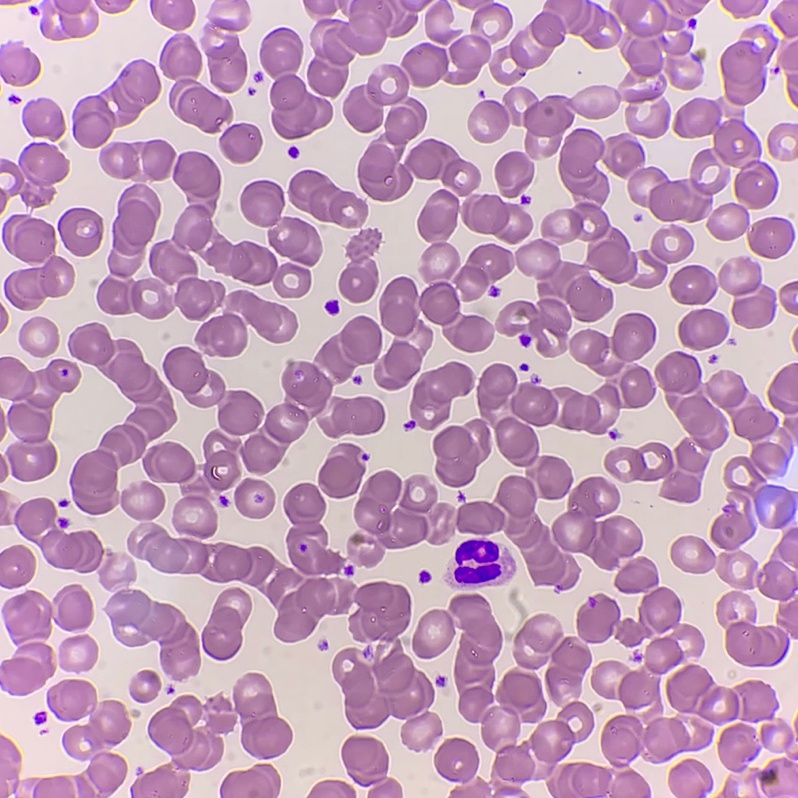RBC: (131, 526, 441, 749), (516, 100, 775, 321), (605, 352, 797, 550), (456, 456, 641, 588), (450, 595, 570, 781), (69, 323, 175, 514), (174, 152, 310, 297), (577, 558, 703, 708), (491, 0, 705, 84), (148, 673, 291, 768), (358, 103, 479, 200), (308, 0, 417, 96), (241, 362, 331, 473), (97, 184, 171, 318), (0, 357, 79, 480), (348, 471, 451, 565), (164, 347, 262, 434), (107, 590, 199, 679), (260, 29, 332, 138), (73, 62, 159, 147), (173, 431, 238, 537), (160, 37, 232, 132), (241, 181, 321, 264), (3, 215, 73, 309), (14, 498, 102, 572), (47, 680, 129, 756), (667, 665, 775, 722), (717, 592, 797, 665), (150, 241, 224, 319), (515, 622, 590, 696), (284, 483, 344, 575), (570, 313, 655, 376), (419, 282, 492, 351), (510, 384, 607, 433), (601, 715, 690, 767), (289, 170, 367, 227), (0, 143, 68, 206), (344, 66, 408, 132), (498, 298, 570, 354), (411, 363, 472, 429), (318, 317, 381, 380), (719, 258, 773, 327), (434, 420, 489, 486), (342, 736, 401, 797), (202, 588, 250, 659), (548, 763, 648, 797), (230, 291, 296, 342), (637, 228, 692, 287), (463, 195, 531, 242), (456, 245, 513, 299), (101, 140, 174, 180), (339, 230, 380, 301), (523, 96, 572, 155), (721, 44, 769, 104), (0, 642, 53, 694), (205, 30, 246, 92), (319, 443, 364, 497), (323, 397, 384, 436), (5, 591, 52, 641), (374, 341, 422, 389), (380, 278, 418, 336), (468, 94, 513, 142), (599, 367, 653, 407), (77, 753, 126, 797), (196, 313, 246, 356), (495, 417, 538, 466), (143, 442, 195, 482), (44, 0, 97, 39), (459, 0, 511, 39), (59, 208, 102, 255), (418, 190, 458, 240), (477, 364, 515, 416), (413, 610, 453, 658), (221, 764, 279, 797), (679, 309, 726, 349), (403, 45, 447, 86), (132, 765, 188, 797), (748, 218, 792, 258), (718, 724, 755, 771), (435, 739, 477, 780), (450, 40, 489, 84), (671, 265, 715, 304), (495, 152, 533, 197), (756, 560, 797, 600), (671, 536, 715, 573), (56, 585, 92, 629), (220, 124, 261, 162), (121, 483, 164, 519), (26, 99, 64, 139), (757, 759, 797, 797), (0, 47, 39, 85), (235, 479, 274, 517), (669, 760, 709, 797), (21, 317, 58, 356), (769, 363, 797, 414), (0, 545, 34, 587), (718, 552, 754, 589), (424, 242, 459, 279), (151, 0, 194, 29), (62, 636, 97, 670), (0, 737, 19, 797), (571, 702, 593, 744), (450, 781, 507, 797), (772, 0, 797, 36), (774, 528, 797, 566), (130, 671, 159, 701), (641, 107, 667, 137), (310, 780, 355, 797), (36, 777, 73, 797), (768, 124, 794, 147), (722, 0, 756, 16), (780, 282, 797, 313), (581, 103, 613, 118), (780, 42, 797, 70), (455, 567, 485, 582), (304, 0, 334, 14), (97, 0, 130, 12), (626, 90, 653, 103), (694, 725, 710, 745), (0, 491, 9, 524), (788, 73, 797, 103), (723, 783, 735, 797), (682, 78, 697, 89), (0, 189, 8, 209), (124, 567, 135, 580), (0, 308, 7, 328), (0, 459, 7, 479), (434, 4, 449, 13), (437, 34, 448, 43), (0, 416, 5, 435), (230, 0, 245, 6), (486, 543, 496, 552), (695, 51, 704, 60), (424, 331, 432, 340), (213, 20, 221, 28), (0, 0, 13, 4), (338, 0, 346, 6)
